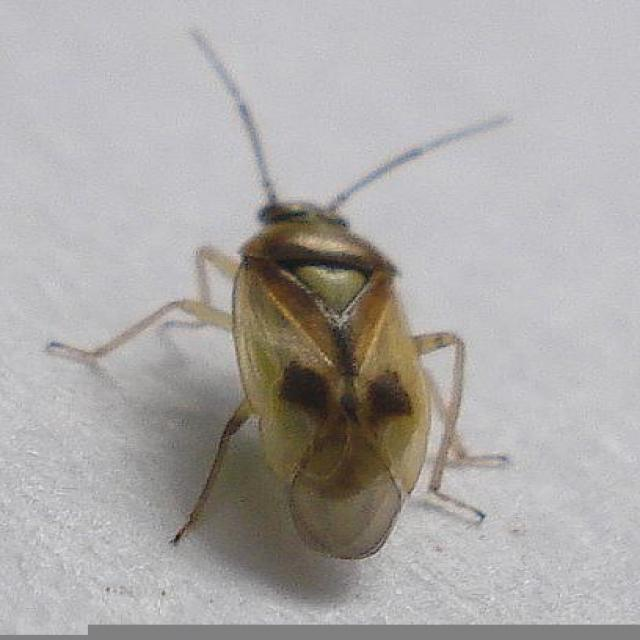Miridae-Adult-: (47, 28, 533, 574)
